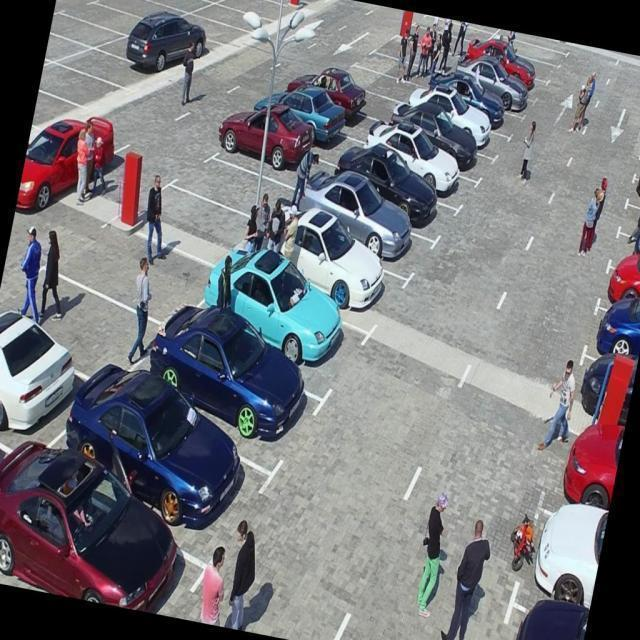space-empty: (20, 272, 152, 377), (71, 230, 207, 326), (149, 177, 252, 258), (197, 152, 289, 225), (37, 56, 120, 116), (75, 42, 151, 100), (475, 41, 559, 84), (48, 5, 114, 58), (365, 48, 443, 91), (78, 0, 150, 43), (353, 64, 421, 107), (331, 79, 394, 125), (492, 29, 570, 65), (391, 37, 461, 77), (204, 0, 272, 39), (184, 13, 245, 50), (408, 26, 476, 57), (424, 15, 492, 45), (106, 0, 176, 24), (229, 0, 293, 24), (140, 0, 212, 20), (246, 0, 314, 12), (160, 0, 227, 9)
space-occupied: (69, 359, 262, 544), (0, 433, 194, 615), (160, 310, 307, 469), (212, 250, 350, 391), (261, 204, 399, 323), (305, 162, 428, 277), (345, 149, 453, 245), (0, 321, 88, 429), (517, 511, 606, 610), (375, 130, 475, 211), (404, 92, 506, 163), (389, 114, 492, 184), (423, 73, 521, 140), (230, 118, 318, 184), (549, 443, 620, 519), (570, 355, 638, 430), (450, 62, 535, 120), (267, 103, 345, 161), (298, 91, 372, 147), (467, 50, 548, 100), (491, 602, 589, 640), (113, 30, 182, 81), (587, 305, 640, 365), (145, 22, 216, 65), (603, 266, 639, 307), (613, 231, 639, 261), (621, 205, 640, 244), (629, 177, 640, 211)
